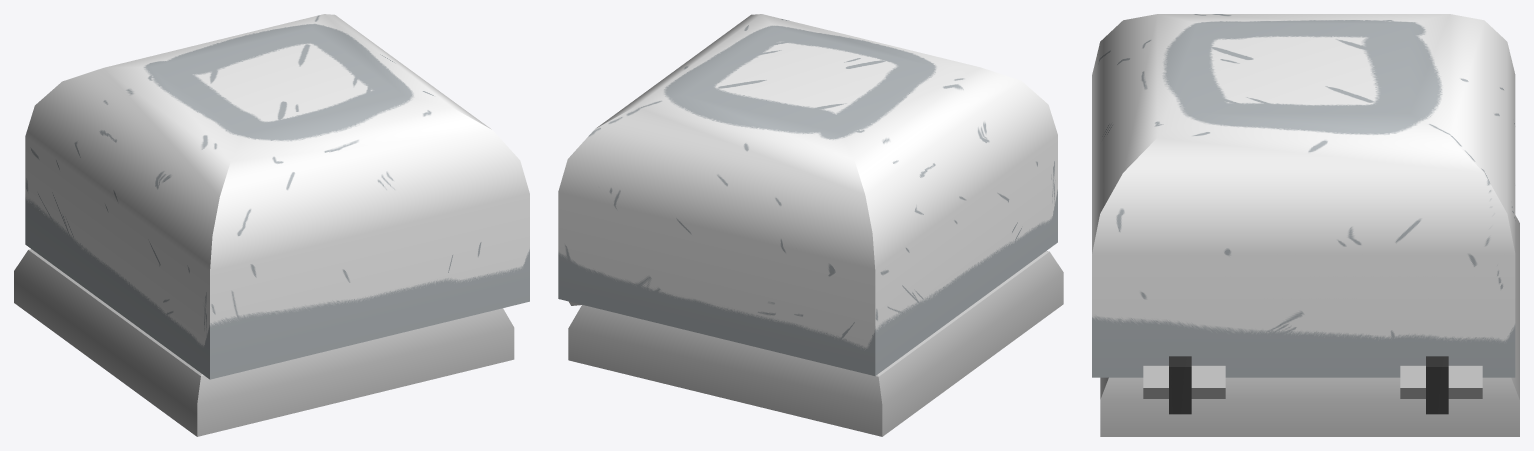
Rendered from bouton på riktigt.fbx.
3 renders of one model, left to right at view 1: azimuth 30°, elevation 25°; view 2: azimuth 150°, elevation 25°; view 3: azimuth 270°, elevation 25°, orthographic. The views are drawn at different scales.
Parts seen in each view (by area): view 1: glass_dome, polySurface12; view 2: glass_dome, polySurface12; view 3: glass_dome, polySurface12, polySurface8, polySurface10, polySurface9, polySurface11.
Part boxes in pixels (x1,y1,x2,y2): glass_dome: (25,14,529,379); polySurface12: (14,249,514,436); glass_dome: (558,14,1057,375); polySurface12: (568,251,1063,436); glass_dome: (1092,14,1515,377); polySurface12: (1100,215,1519,436); polySurface8: (1143,365,1225,398); polySurface10: (1400,365,1482,398); polySurface9: (1169,356,1191,414); polySurface11: (1426,356,1448,414).
Bounding box in the file's own units: 6.59 × 4.51 × 6.12.
